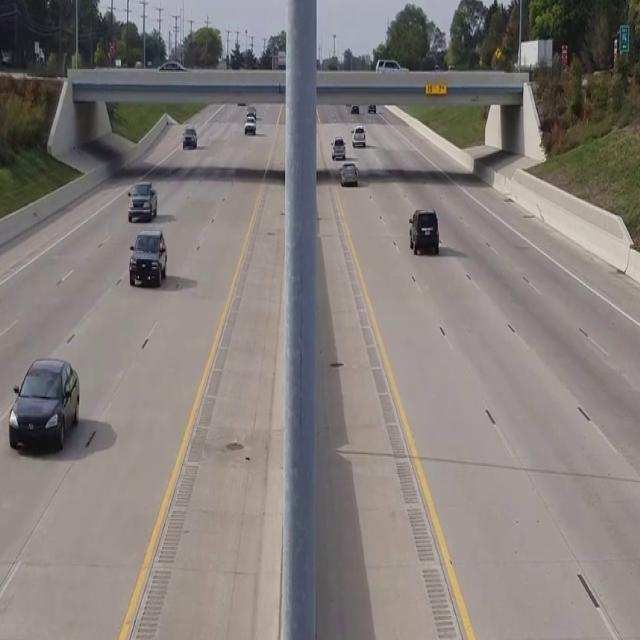car: (8, 357, 80, 453), (128, 230, 167, 287), (409, 208, 439, 254), (126, 180, 156, 222), (340, 161, 358, 186), (350, 125, 366, 147), (183, 126, 197, 149)
